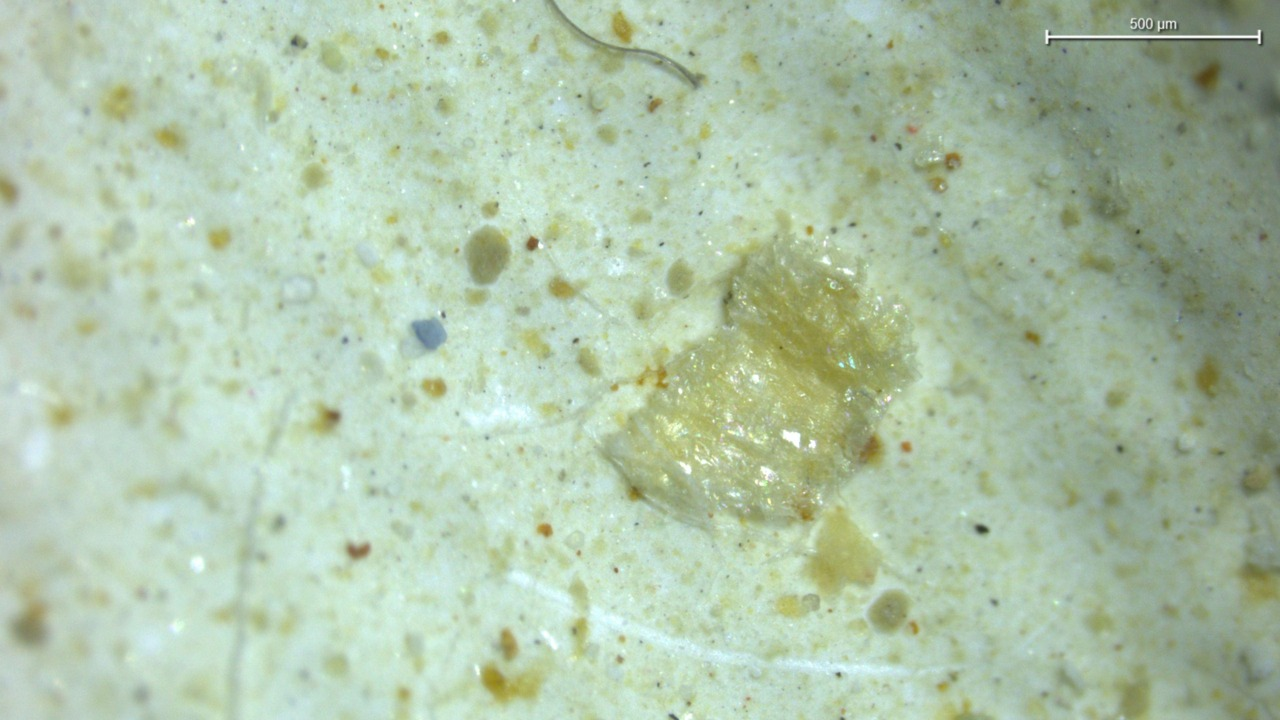microplastic_fragment: (604, 238, 912, 528), (412, 318, 447, 350)
